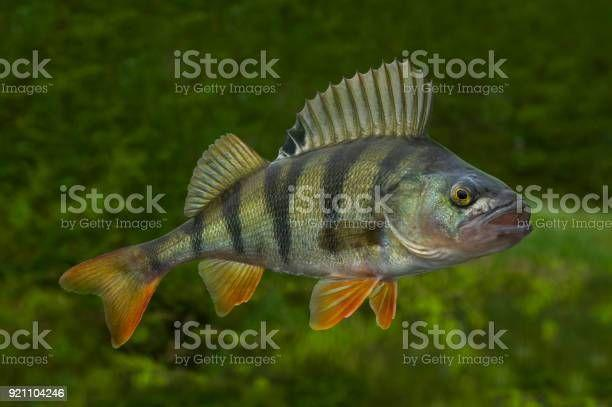Perch: (57, 57, 535, 349)
